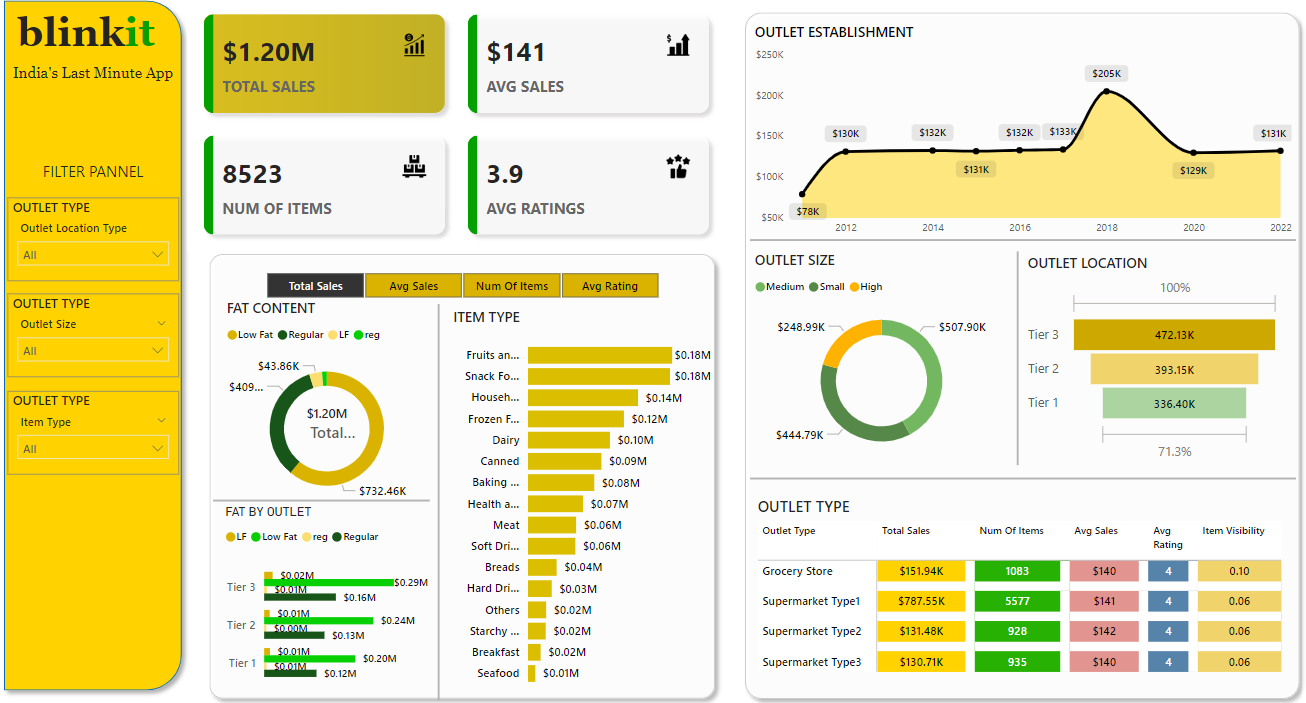

This screenshot's page, from the dashboard's own definition file:
{"tool":"powerbi","page":{"name":"Page 1","canvas":[1400,800],"ordinal":0},"visuals":[{"type":"shape","box":[8.3,41.7,206.7,750],"z":0},{"type":"textbox","box":[17.3,53.5,173.2,59.8],"z":1000},{"type":"textbox","box":[8.3,113.3,206.7,40],"z":2000},{"type":"cardVisual","fields":{"Data":["BlinkIT Grocery Data.Total Sales","BlinkIT Grocery Data.Avg Sales","BlinkIT Grocery Data.Num Of Items","BlinkIT Grocery Data.Avg Rating"]},"box":[211.7,48.3,570,268.3],"z":3000},{"type":"shape","box":[226.8,310.2,554.3,489.8],"z":4000},{"type":"donutChart","title":"FAT CONTENT","fields":{"Y":["BlinkIT Grocery Data.Total Sales"],"Category":["BlinkIT Grocery Data.Item Fat Content"]},"box":[248.3,366.7,221.7,230],"z":5000},{"type":"slicer","fields":{"Values":["Metrics.Metrics"]},"box":[270.9,332.3,464.6,39.4],"z":6000},{"type":"cardVisual","fields":{"Data":["BlinkIT Grocery Data.Total Sales"]},"box":[311.7,453.3,95,90],"z":7000},{"type":"clusteredBarChart","title":"FAT BY OUTLET","fields":{"Y":["BlinkIT Grocery Data.Total Sales"],"Category":["BlinkIT Grocery Data.Outlet Location Type"],"Series":["BlinkIT Grocery Data.Item Fat Content"]},"box":[246.7,585,225,205],"z":8000},{"type":"shape","box":[238.3,561.7,230,38.3],"z":9000},{"type":"shape","box":[467.7,371.7,20.5,420.5],"z":10000},{"type":"barChart","title":"ITEM TYPE","fields":{"Y":["BlinkIT Grocery Data.Total Sales"],"Category":["BlinkIT Grocery Data.Item Type"]},"box":[488.3,375,283.3,411.7],"z":11000},{"type":"shape","box":[793.7,53.5,606.3,746.5],"z":12000},{"type":"lineChart","title":"OUTLET ESTABLISHMENT","fields":{"Y":["BlinkIT Grocery Data.Total Sales"],"Category":["BlinkIT Grocery Data.Outlet Establishment Year"]},"box":[807.9,72.4,579.5,234.6],"z":13000},{"type":"shape","box":[807.9,283.5,579.5,42.5],"z":14000},{"type":"shape","box":[1086.6,316.5,11,226.8],"z":15000},{"type":"funnel","title":"OUTLET LOCATION","fields":{"Y":["Sum(BlinkIT Grocery Data.Sales)"],"Category":["BlinkIT Grocery Data.Outlet Location Type"]},"box":[1097.6,318.1,277.2,225.2],"z":16000},{"type":"shape","box":[807.9,537,579.5,42.5],"z":17000},{"type":"slicer","title":"OUTLET TYPE","fields":{"Values":["BlinkIT Grocery Data.Outlet Location Type"]},"box":[20,260,181.7,88.3],"z":18000},{"type":"slicer","title":"OUTLET TYPE","fields":{"Values":["BlinkIT Grocery Data.Outlet Size"]},"box":[20,361.7,181.7,88.3],"z":19000},{"type":"slicer","title":"OUTLET TYPE","fields":{"Values":["BlinkIT Grocery Data.Item Type"]},"box":[20,465,181.7,88.3],"z":20000},{"type":"textbox","box":[20,215,181.7,45],"z":21000},{"type":"donutChart","title":"OUTLET SIZE","fields":{"Y":["BlinkIT Grocery Data.Total Sales"],"Category":["BlinkIT Grocery Data.Outlet Size"]},"box":[808.3,315,278.3,230],"z":22000},{"type":"pivotTable","title":"OUTLET TYPE","fields":{"Rows":["BlinkIT Grocery Data.Outlet Type"],"Values":["BlinkIT Grocery Data.Total Sales","BlinkIT Grocery Data.Num Of Items","BlinkIT Grocery Data.Avg Sales","BlinkIT Grocery Data.Avg Rating","Avg(BlinkIT Grocery Data.Item Visibility)"]},"box":[811.7,576.7,580,201.7],"z":23000}]}

Visuals, with their boxes on the page's 1400x800 design canvas (x1, y1, x2, y2). These are canvas units, not pixel positions in the 1306x703 screenshot, which may show the page scaled, cropped or inside an application window:
shape: x1=8, y1=42, x2=215, y2=792
textbox: x1=17, y1=54, x2=190, y2=113
textbox: x1=8, y1=113, x2=215, y2=153
cardVisual - BlinkIT Grocery Data.Total Sales x BlinkIT Grocery Data.Avg Sales: x1=212, y1=48, x2=782, y2=317
shape: x1=227, y1=310, x2=781, y2=800
"FAT CONTENT" donutChart: x1=248, y1=367, x2=470, y2=597
slicer - Metrics.Metrics: x1=271, y1=332, x2=736, y2=372
cardVisual - BlinkIT Grocery Data.Total Sales: x1=312, y1=453, x2=407, y2=543
"FAT BY OUTLET" clusteredBarChart: x1=247, y1=585, x2=472, y2=790
shape: x1=238, y1=562, x2=468, y2=600
shape: x1=468, y1=372, x2=488, y2=792
"ITEM TYPE" barChart: x1=488, y1=375, x2=772, y2=787
shape: x1=794, y1=54, x2=1400, y2=800
"OUTLET ESTABLISHMENT" lineChart: x1=808, y1=72, x2=1387, y2=307
shape: x1=808, y1=284, x2=1387, y2=326
shape: x1=1087, y1=316, x2=1098, y2=543
"OUTLET LOCATION" funnel: x1=1098, y1=318, x2=1375, y2=543
shape: x1=808, y1=537, x2=1387, y2=580
"OUTLET TYPE" slicer: x1=20, y1=260, x2=202, y2=348
"OUTLET TYPE" slicer: x1=20, y1=362, x2=202, y2=450
"OUTLET TYPE" slicer: x1=20, y1=465, x2=202, y2=553
textbox: x1=20, y1=215, x2=202, y2=260
"OUTLET SIZE" donutChart: x1=808, y1=315, x2=1087, y2=545
"OUTLET TYPE" pivotTable: x1=812, y1=577, x2=1392, y2=778
